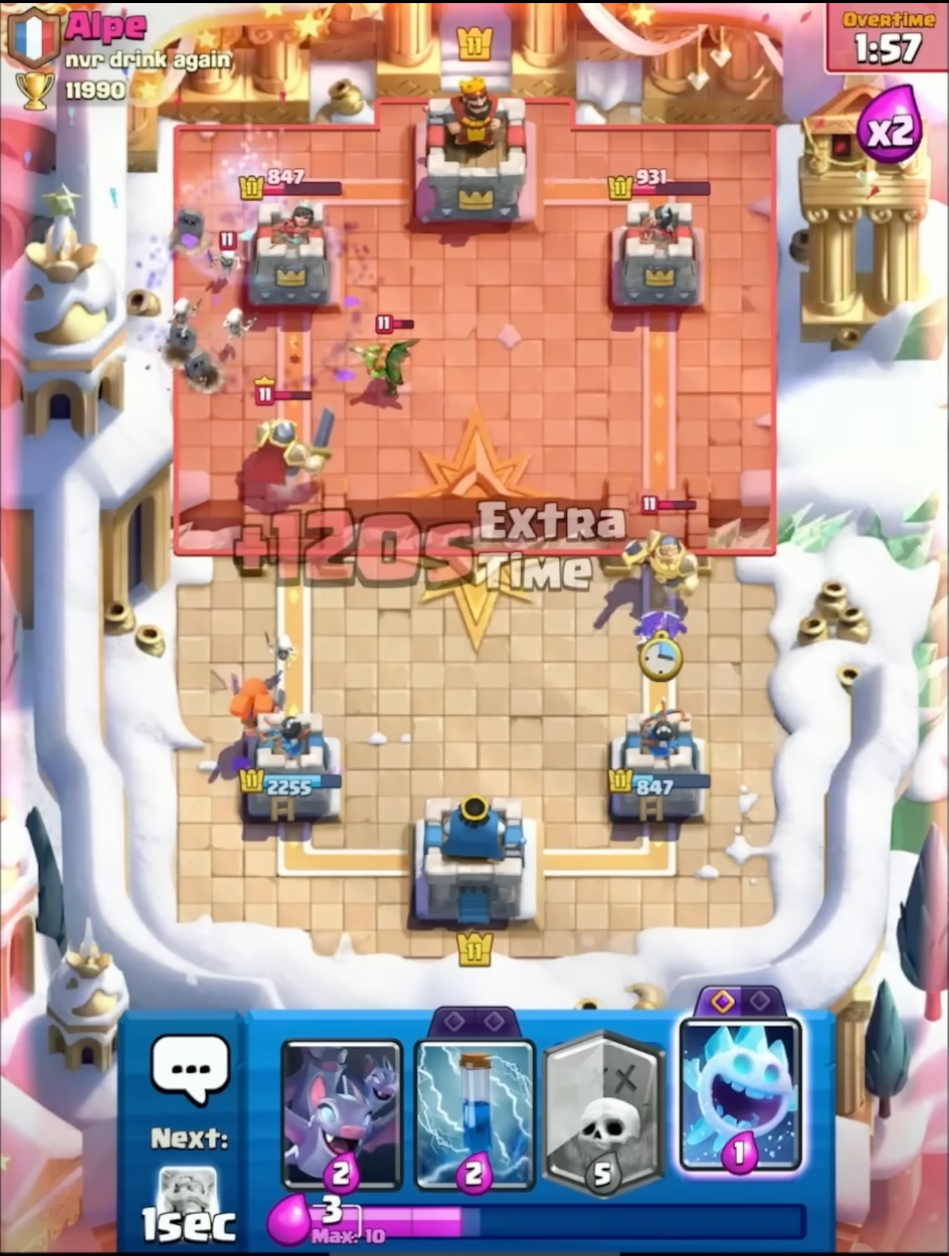dart-goblin: (341, 311, 422, 398)
hero-knight: (247, 378, 339, 506), (617, 494, 721, 604)
skeleton: (204, 226, 247, 280)
